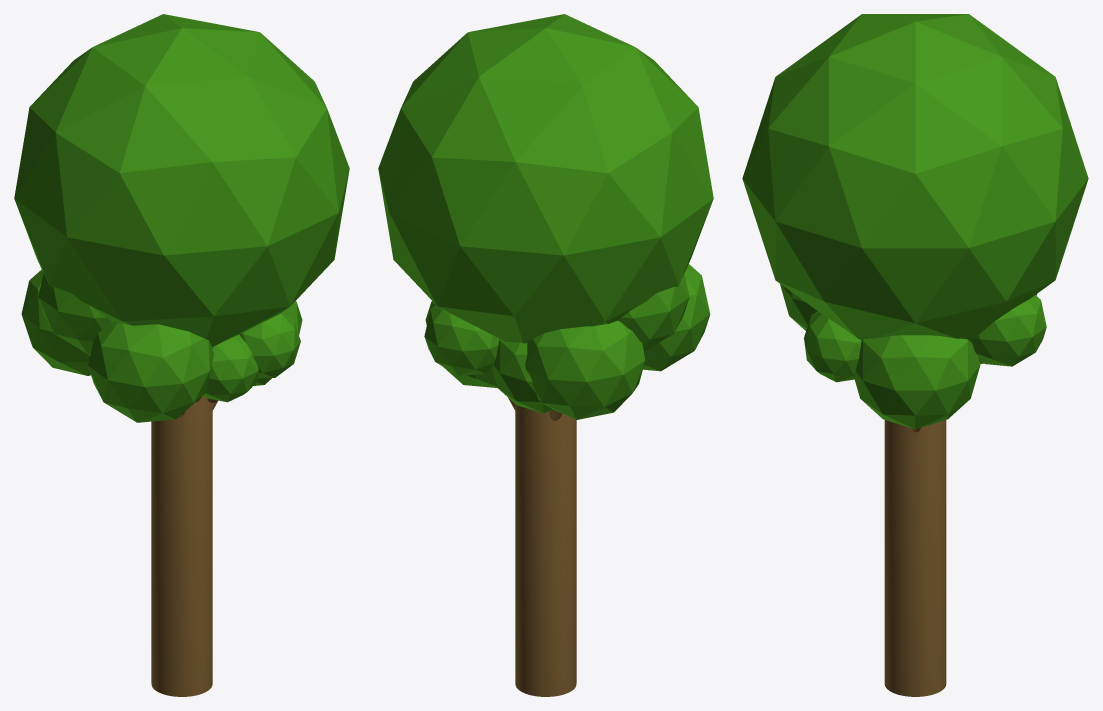
The model's file is Ağaç 1.fbx.
The picture shows the model from 3 angles, left to right: view 1: azimuth 30°, elevation 25°; view 2: azimuth 150°, elevation 25°; view 3: azimuth 270°, elevation 25°; orthographic projection.
Visible parts, largest first — view 1: YAPRAK, GÖVDE, YAPRAK.001, YAPRAK.004, YAPRAK.007, YAPRAK.008, YAPRAK.003; view 2: YAPRAK, GÖVDE, YAPRAK.007, YAPRAK.006, YAPRAK.001, YAPRAK.004, YAPRAK.005, YAPRAK.002; view 3: YAPRAK, GÖVDE, YAPRAK.002, YAPRAK.006, YAPRAK.008, YAPRAK.001.
Part boxes in pixels (x1,y1,x2,y2): YAPRAK: (14,14,349,347); GÖVDE: (151,396,212,696); YAPRAK.001: (88,321,213,422); YAPRAK.004: (38,273,110,353); YAPRAK.007: (21,269,90,375); YAPRAK.008: (239,312,300,378); YAPRAK.003: (203,334,258,402); YAPRAK: (378,14,713,343); GÖVDE: (515,404,576,696); YAPRAK.007: (525,320,645,419); YAPRAK.006: (424,305,499,375); YAPRAK.001: (643,264,710,371); YAPRAK.004: (618,273,689,351); YAPRAK.005: (492,339,553,413); YAPRAK.002: (425,301,497,387); YAPRAK: (742,14,1088,341); GÖVDE: (884,420,946,696); YAPRAK.002: (854,335,980,429); YAPRAK.006: (971,295,1046,366); YAPRAK.008: (804,313,861,382); YAPRAK.001: (780,284,816,330).
Bounding box in the file's own units: 151 × 334 × 158.
